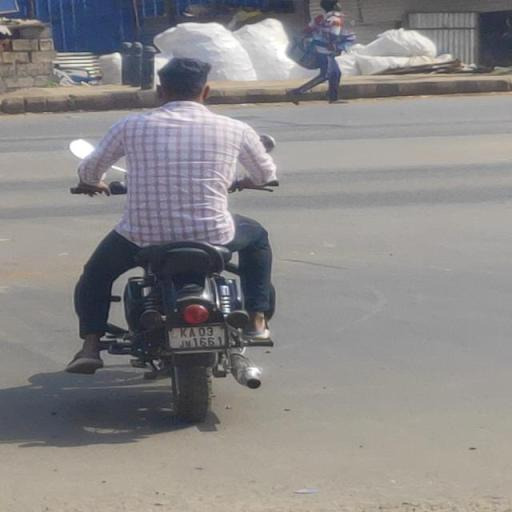bike: (52, 52, 320, 426)
numberplate: (165, 323, 226, 348)
withouthelmet: (158, 59, 212, 103)
